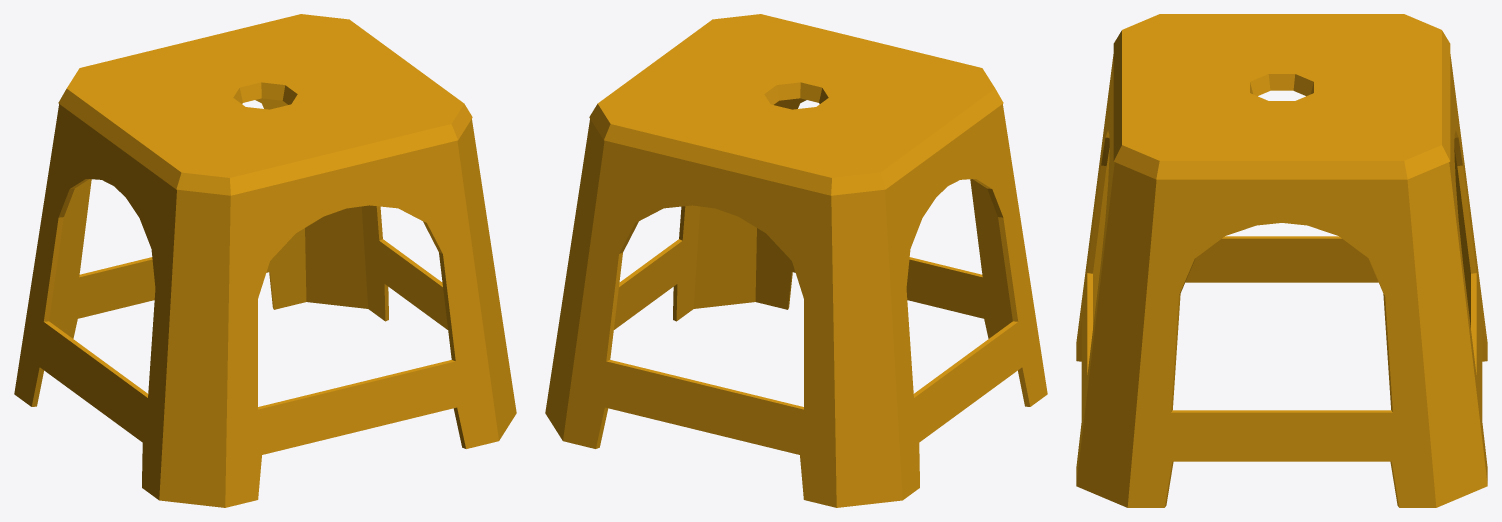
File: SM_Furniture_StoolLow_Yellow_01.obj
3 views of the same model, side by side, from view 1: azimuth 30°, elevation 25°; view 2: azimuth 150°, elevation 25°; view 3: azimuth 270°, elevation 25° (orthographic). The views are drawn at different scales.
Visible parts, largest first — view 1: SM_Furniture_StoolLow_Yellow_01; view 2: SM_Furniture_StoolLow_Yellow_01; view 3: SM_Furniture_StoolLow_Yellow_01.
Part boxes in pixels (x1=…): SM_Furniture_StoolLow_Yellow_01: x1=14, y1=14, x2=516, y2=507; SM_Furniture_StoolLow_Yellow_01: x1=545, y1=14, x2=1047, y2=507; SM_Furniture_StoolLow_Yellow_01: x1=1076, y1=14, x2=1487, y2=507.
Bounding box in the file's own units: 0.316 × 0.26 × 0.296.
1 material, 1 textured.
